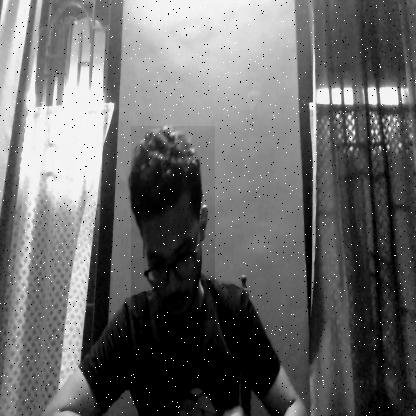Normal: (131, 126, 215, 320)
